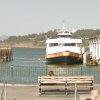Boat: (37, 23, 88, 65)
